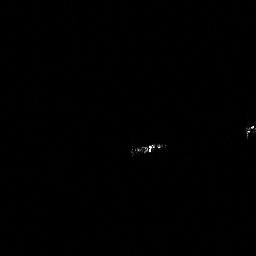ship: (130, 141, 167, 157)
